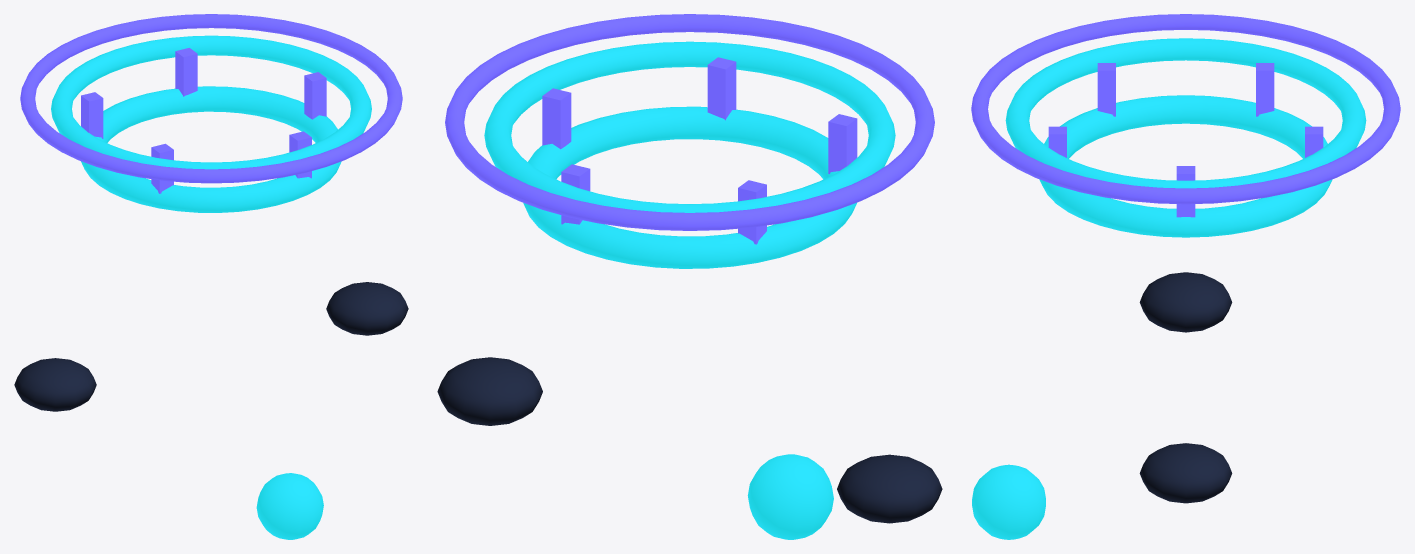
File: avatar-aurora-kit-boss-final.glb
3 renders of one model, left to right at view 1: azimuth 30°, elevation 25°; view 2: azimuth 150°, elevation 25°; view 3: azimuth 270°, elevation 25°, orthographic. The views are drawn at different scales.
Parts seen in each view (by area): view 1: kit_aurora_boss-final_haloB, kit_aurora_boss-final_crownRing, kit_aurora_boss-final_haloA, kit_aurora_boss-final_core, kit_aurora_boss-final_shoulderCapR, kit_aurora_boss-final_shoulderCapL, kit_aurora_boss-final_crownSpike4, kit_aurora_boss-final_crownSpike0, kit_aurora_boss-final_crownSpike3, kit_aurora_boss-final_crownSpike2; view 2: kit_aurora_boss-final_haloB, kit_aurora_boss-final_crownRing, kit_aurora_boss-final_haloA, kit_aurora_boss-final_core, kit_aurora_boss-final_shoulderCapL, kit_aurora_boss-final_shoulderCapR, kit_aurora_boss-final_crownSpike1, kit_aurora_boss-final_crownSpike0, kit_aurora_boss-final_crownSpike2, kit_aurora_boss-final_crownSpike3, kit_aurora_boss-final_crownSpike4; view 3: kit_aurora_boss-final_haloB, kit_aurora_boss-final_crownRing, kit_aurora_boss-final_haloA, kit_aurora_boss-final_core, kit_aurora_boss-final_shoulderCapL, kit_aurora_boss-final_shoulderCapR, kit_aurora_boss-final_crownSpike2, kit_aurora_boss-final_crownSpike3, kit_aurora_boss-final_crownSpike0, kit_aurora_boss-final_crownSpike1, kit_aurora_boss-final_crownSpike4.
Part boxes in pixels (box(x1,y1,x2,y2)): kit_aurora_boss-final_haloB: box(20, 14, 402, 183); kit_aurora_boss-final_crownRing: box(81, 86, 341, 212); kit_aurora_boss-final_haloA: box(51, 35, 371, 169); kit_aurora_boss-final_core: box(256, 473, 323, 539); kit_aurora_boss-final_shoulderCapR: box(14, 358, 96, 411); kit_aurora_boss-final_shoulderCapL: box(326, 282, 408, 335); kit_aurora_boss-final_crownSpike4: box(175, 48, 197, 96); kit_aurora_boss-final_crownSpike0: box(304, 72, 326, 119); kit_aurora_boss-final_crownSpike3: box(81, 92, 103, 138); kit_aurora_boss-final_crownSpike2: box(151, 143, 173, 193); kit_aurora_boss-final_haloB: box(445, 14, 934, 230); kit_aurora_boss-final_crownRing: box(523, 106, 856, 268); kit_aurora_boss-final_haloA: box(484, 41, 895, 212); kit_aurora_boss-final_core: box(747, 454, 833, 539); kit_aurora_boss-final_shoulderCapL: box(437, 357, 542, 425); kit_aurora_boss-final_shoulderCapR: box(837, 454, 942, 523); kit_aurora_boss-final_crownSpike1: box(707, 57, 736, 120); kit_aurora_boss-final_crownSpike0: box(542, 88, 571, 149); kit_aurora_boss-final_crownSpike2: box(828, 114, 857, 173); kit_aurora_boss-final_crownSpike3: box(738, 180, 766, 244); kit_aurora_boss-final_crownSpike4: box(561, 164, 590, 224); kit_aurora_boss-final_haloB: box(971, 14, 1400, 204); kit_aurora_boss-final_crownRing: box(1039, 95, 1332, 237); kit_aurora_boss-final_haloA: box(1005, 38, 1366, 188); kit_aurora_boss-final_core: box(972, 464, 1045, 539); kit_aurora_boss-final_shoulderCapL: box(1139, 443, 1232, 503); kit_aurora_boss-final_shoulderCapR: box(1139, 272, 1232, 332); kit_aurora_boss-final_crownSpike2: box(1097, 63, 1115, 116); kit_aurora_boss-final_crownSpike3: box(1256, 63, 1274, 116); kit_aurora_boss-final_crownSpike0: box(1176, 166, 1195, 217); kit_aurora_boss-final_crownSpike1: box(1048, 126, 1066, 157); kit_aurora_boss-final_crownSpike4: box(1305, 126, 1323, 157).
Bounding box in the file's own units: 0.59 × 0.57 × 0.51.
